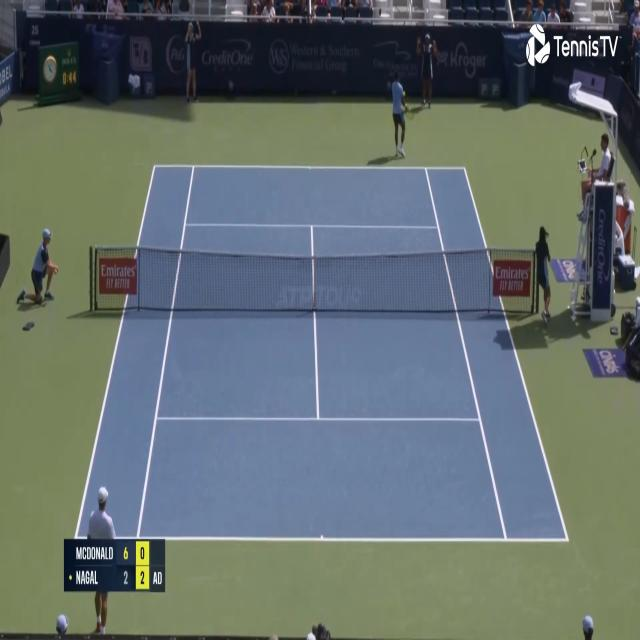tennis-player: (86, 484, 115, 635), (388, 67, 408, 158)
